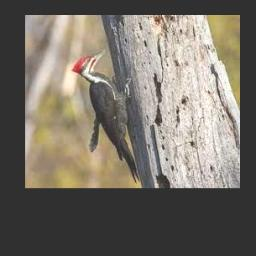Woodpecker: (71, 47, 140, 182)
